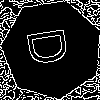D: (26, 24, 78, 67)
